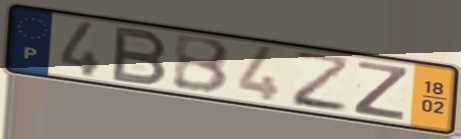4: (235, 43, 285, 106), (57, 18, 103, 80)
B: (108, 24, 171, 88), (171, 34, 234, 96)
Z: (290, 50, 353, 115), (350, 59, 412, 123)
